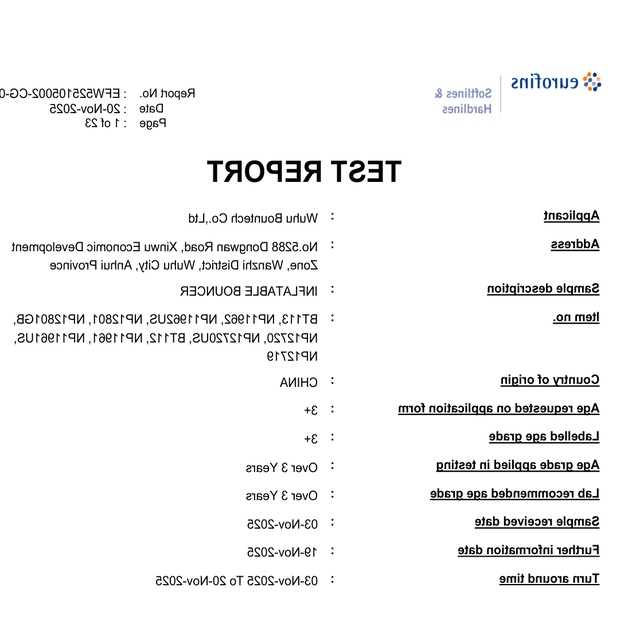eurofins: (503, 68, 613, 102)
